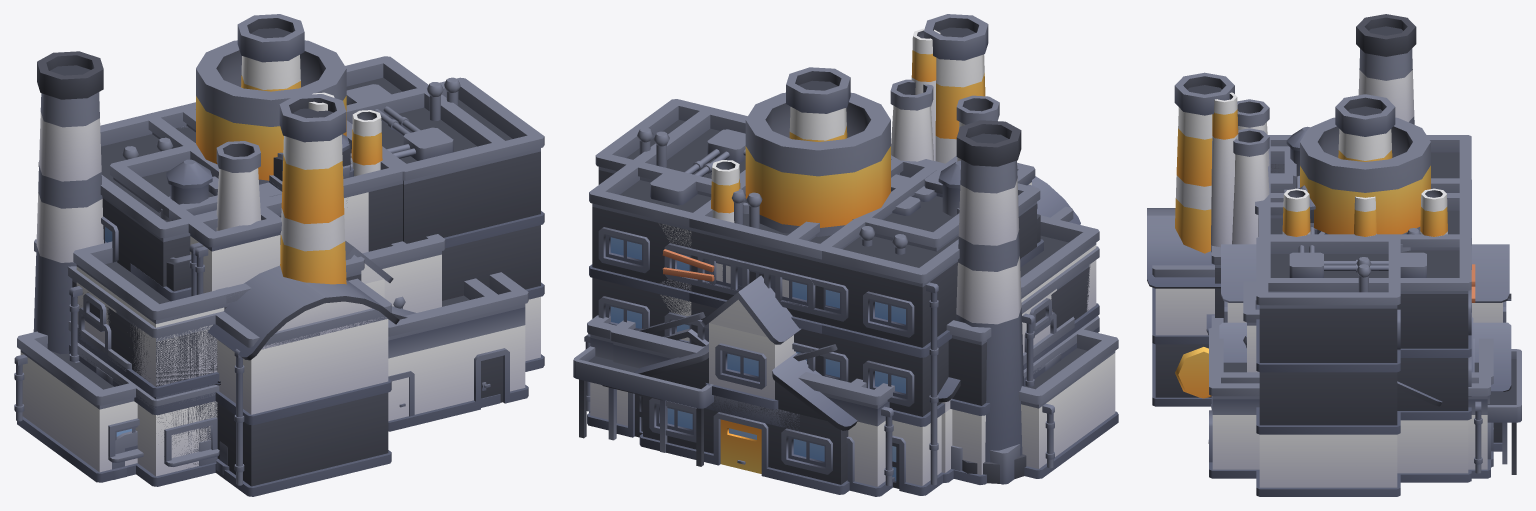
The model's file is industrial.glb.
3 views of the same model, side by side, from view 1: azimuth 30°, elevation 25°; view 2: azimuth 150°, elevation 25°; view 3: azimuth 270°, elevation 25° (orthographic). The views are drawn at different scales.
Visible parts, largest first — view 1: building-n, building-f, building-l, building-r, building-a, building-c, building-q, chimney-large, chimney-medium, building-h, building-e, building-g (+4 smaller); view 2: building-a, building-m, building-f, building-q, building-l, chimney-large, building-d, building-c, building-r, chimney-medium, building-e, building-b (+4 smaller); view 3: building-r, building-a, building-n, building-m, building-c, chimney-large, building-l, building-e, building-f, building-d, chimney-medium, building-q (+3 smaller).
Boxes of the visible parts, left/top/right/bottom form: building-n: left=169, top=92, right=399, bottom=496; building-f: left=33, top=51, right=280, bottom=486; building-l: left=14, top=94, right=445, bottom=482; building-r: left=68, top=77, right=544, bottom=379; building-a: left=38, top=56, right=508, bottom=286; building-c: left=216, top=153, right=528, bottom=474; building-q: left=34, top=239, right=501, bottom=486; chimney-large: left=196, top=40, right=346, bottom=184; chimney-medium: left=237, top=14, right=304, bottom=91; building-h: left=75, top=342, right=220, bottom=486; building-e: left=216, top=141, right=364, bottom=309; building-g: left=110, top=143, right=281, bottom=232; building-a: left=589, top=108, right=1040, bottom=495; building-m: left=634, top=160, right=857, bottom=494; building-f: left=956, top=120, right=1099, bottom=483; building-q: left=602, top=246, right=1099, bottom=496; building-l: left=924, top=14, right=1118, bottom=478; chimney-large: left=745, top=92, right=890, bottom=236; building-d: left=689, top=159, right=936, bottom=430; building-c: left=573, top=202, right=866, bottom=466; building-r: left=595, top=99, right=1074, bottom=369; chimney-medium: left=786, top=67, right=850, bottom=141; building-e: left=890, top=79, right=999, bottom=161; building-b: left=656, top=156, right=959, bottom=341; building-r: left=1256, top=236, right=1474, bottom=496; building-a: left=1258, top=126, right=1471, bottom=482; building-n: left=1147, top=92, right=1296, bottom=406; building-m: left=1219, top=188, right=1511, bottom=451; building-c: left=1175, top=231, right=1521, bottom=478; chimney-large: left=1300, top=117, right=1430, bottom=234; building-l: left=1174, top=72, right=1259, bottom=372; building-e: left=1211, top=99, right=1269, bottom=322; building-f: left=1356, top=14, right=1416, bottom=124; building-d: left=1258, top=175, right=1471, bottom=316; chimney-medium: left=1335, top=94, right=1395, bottom=161; building-q: left=1211, top=315, right=1507, bottom=467.
Bounding box in the file's own units: 2.71 × 1.92 × 2.18.
Materials: 1 (1 with a texture image).
